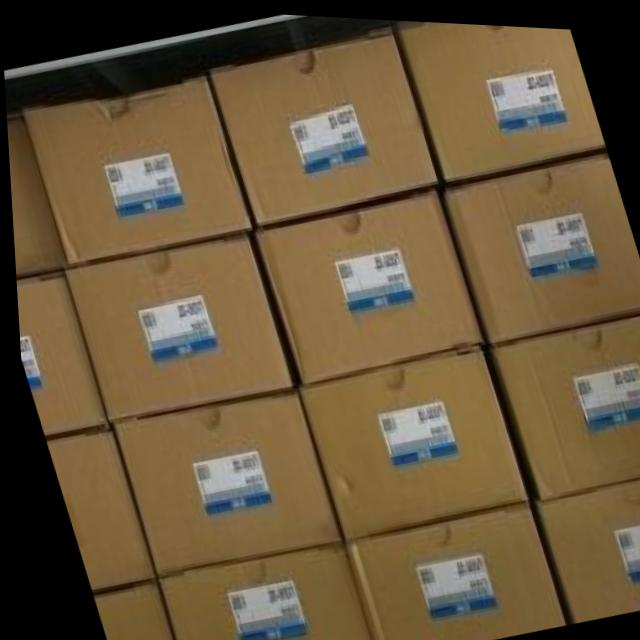box: (242, 182, 480, 385), (205, 24, 436, 224), (291, 342, 524, 536), (20, 70, 250, 264), (102, 385, 339, 572), (59, 231, 287, 419), (432, 146, 640, 342), (391, 17, 606, 178), (338, 496, 558, 640), (477, 305, 640, 493), (147, 538, 366, 640), (40, 424, 148, 595), (522, 469, 640, 619), (13, 267, 103, 438), (5, 109, 61, 277), (86, 575, 166, 640)
